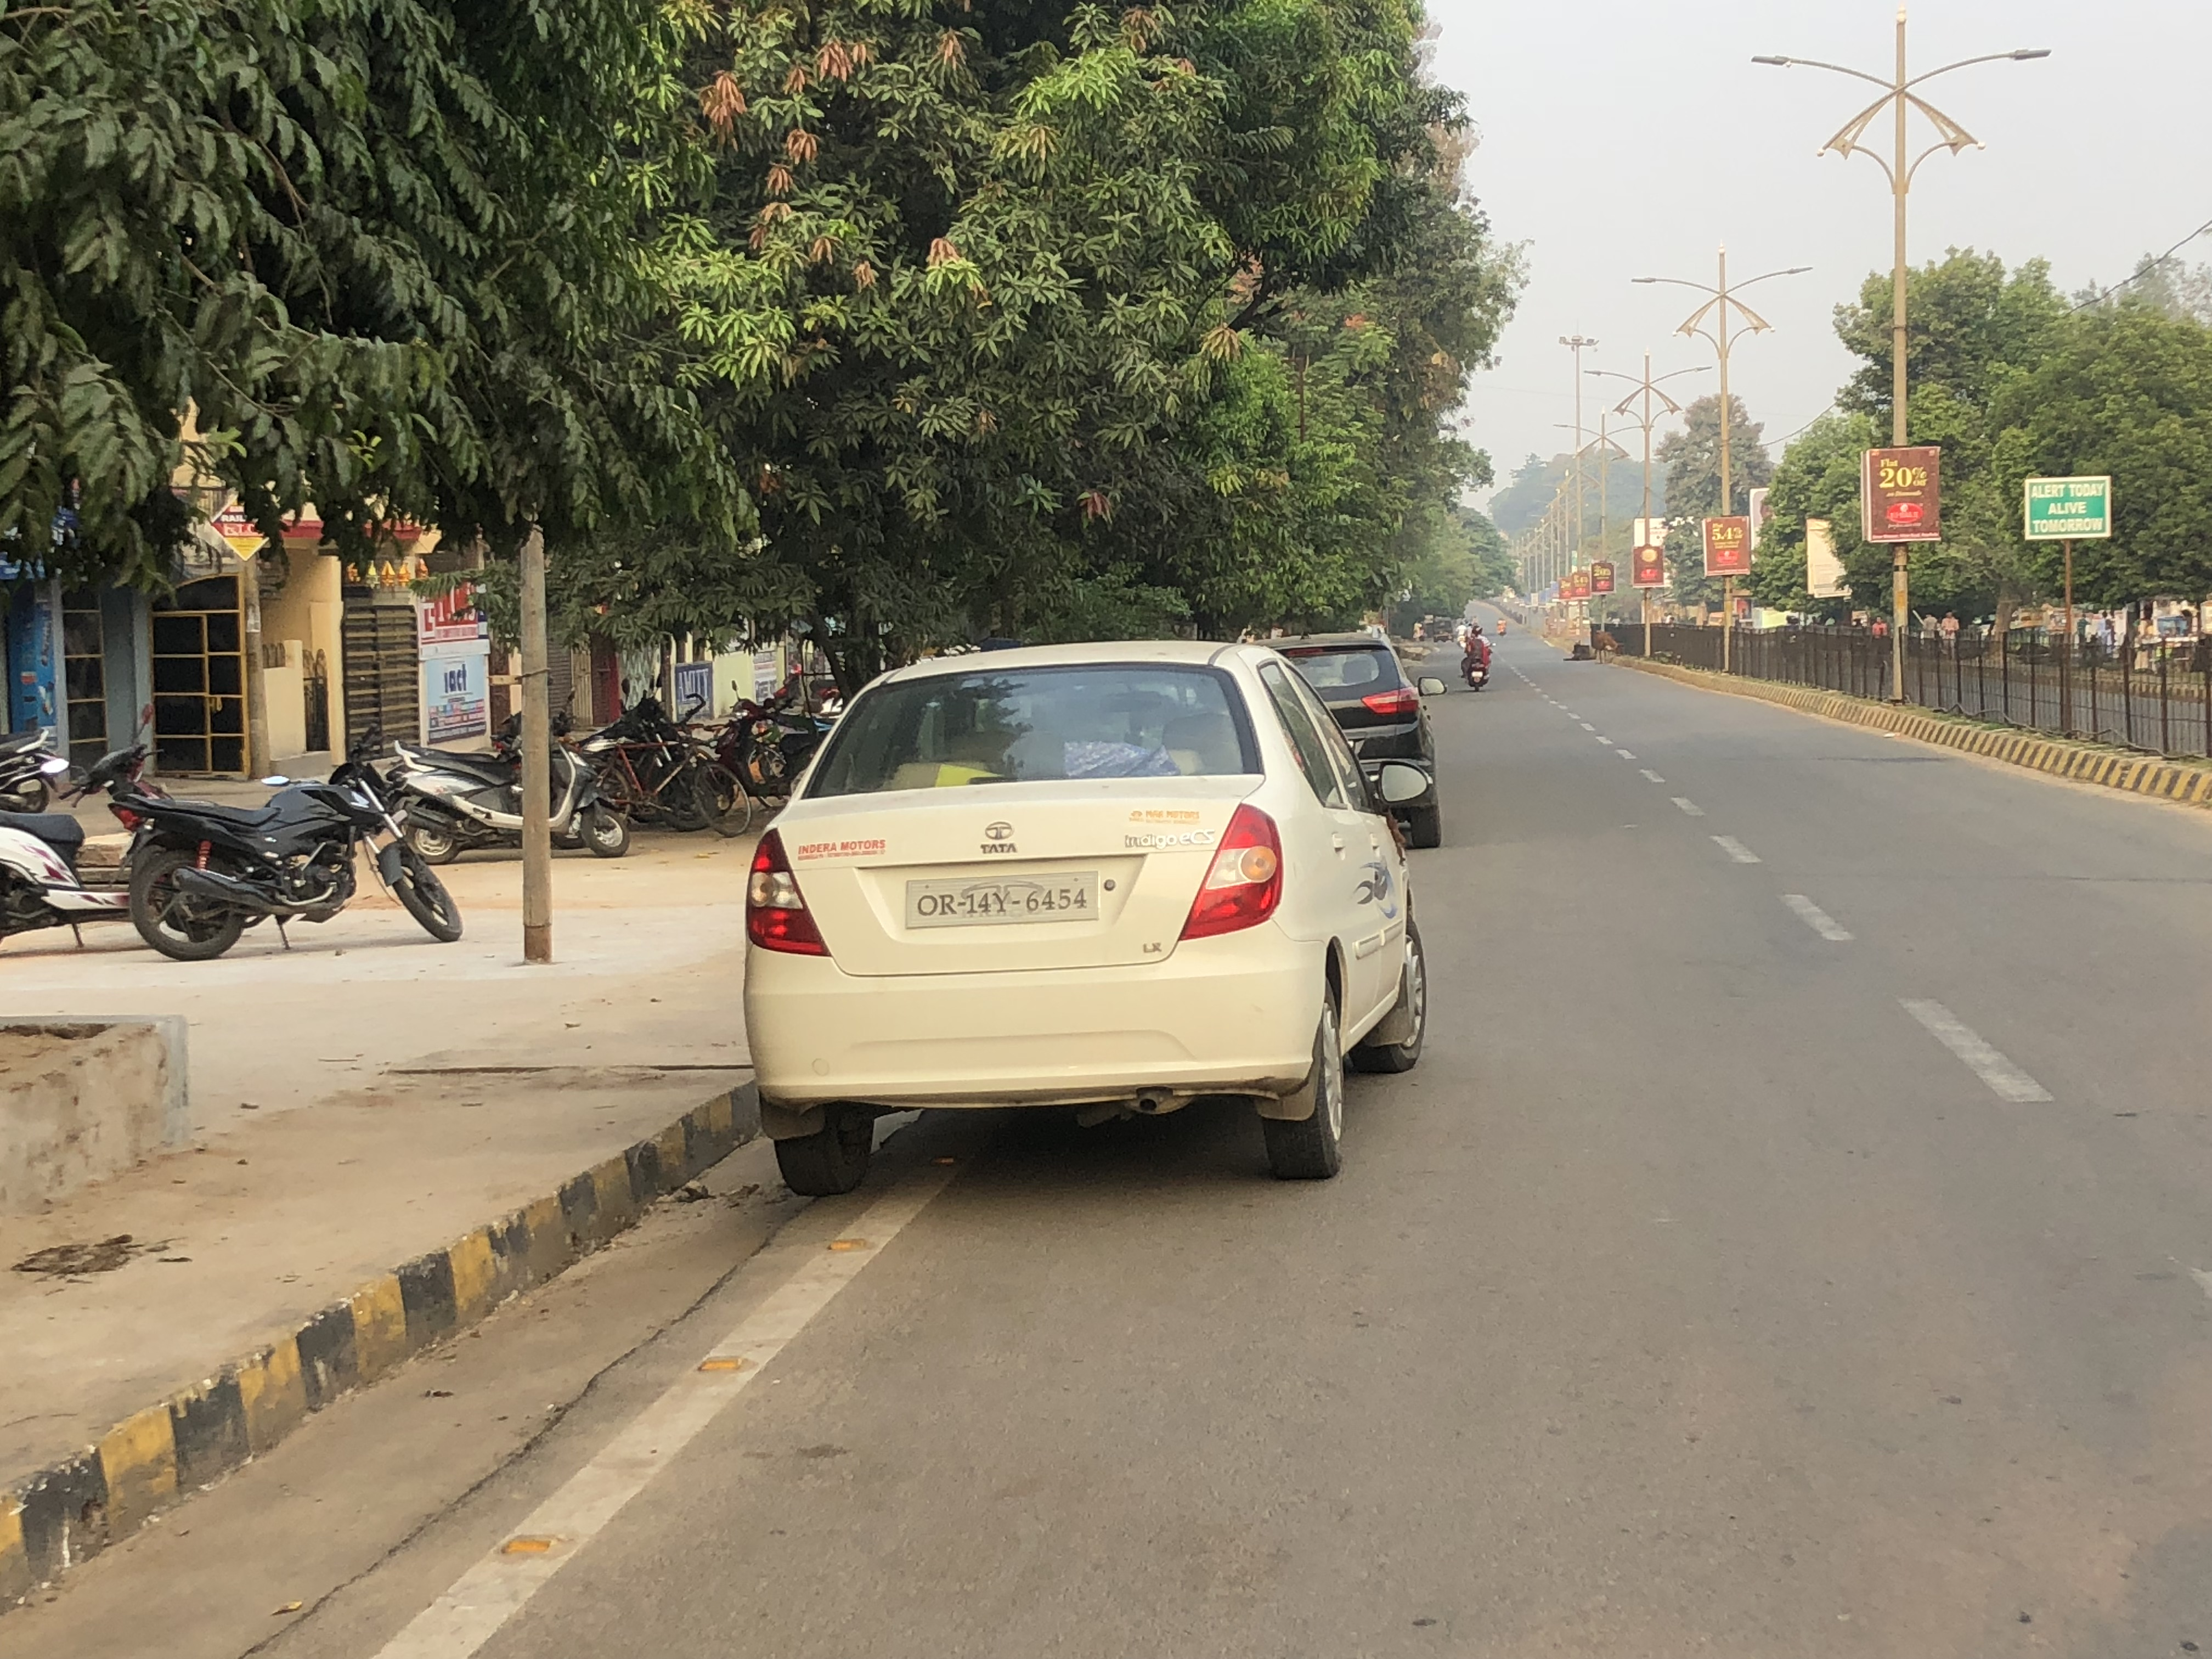licenseplate: (890, 865, 1113, 933)
